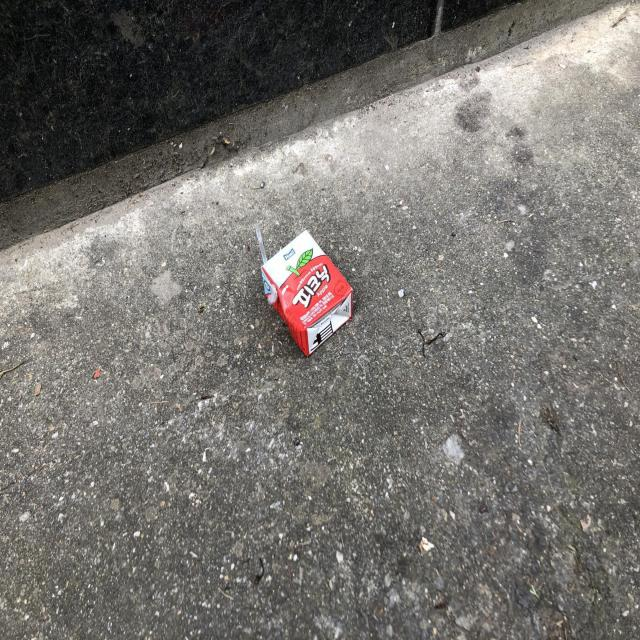paperpack: (261, 229, 352, 356)
